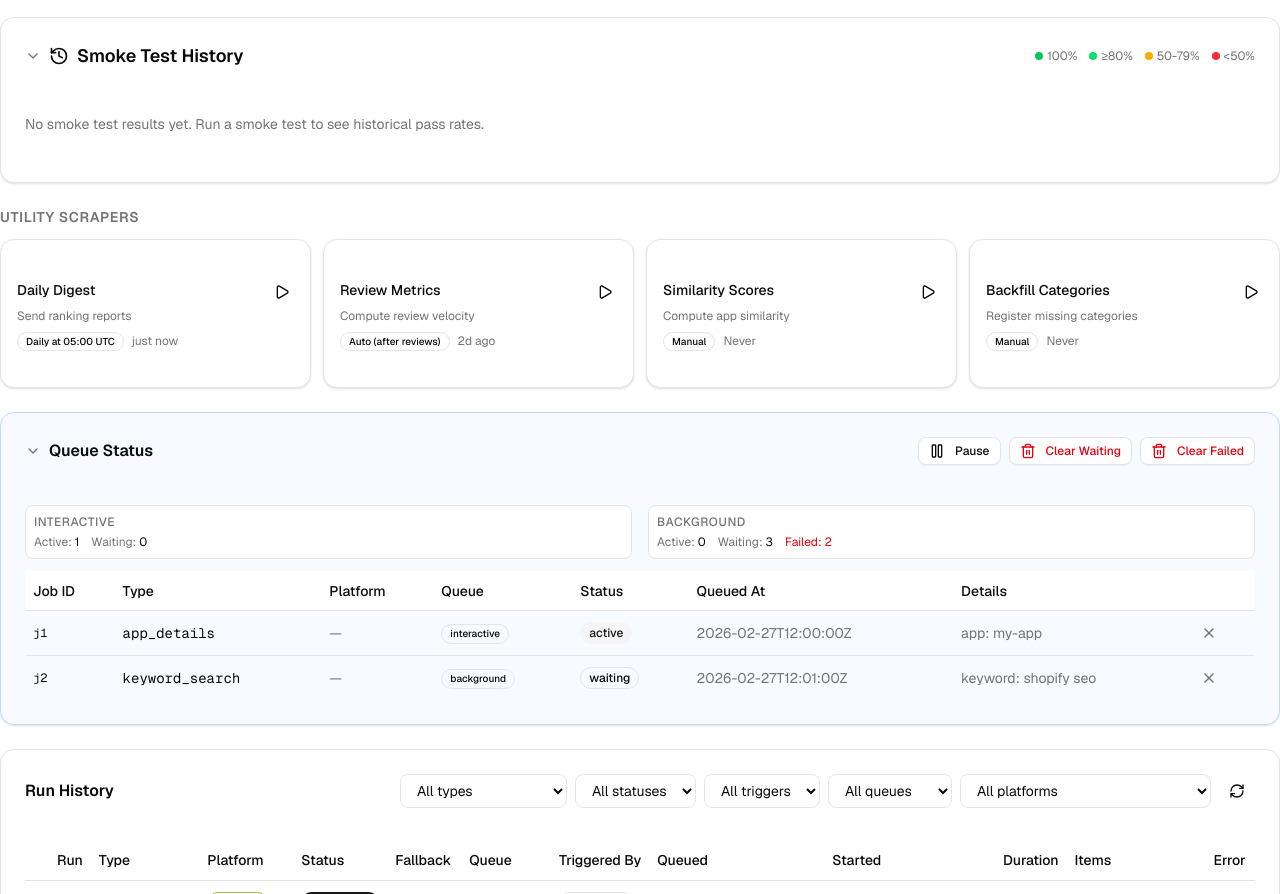
Test: ScraperPage › opens drain confirmation modal
(page scrolled)
Step 1. Click the button "Clear Waiting" → (1070, 451), box [1008, 437, 1132, 465]
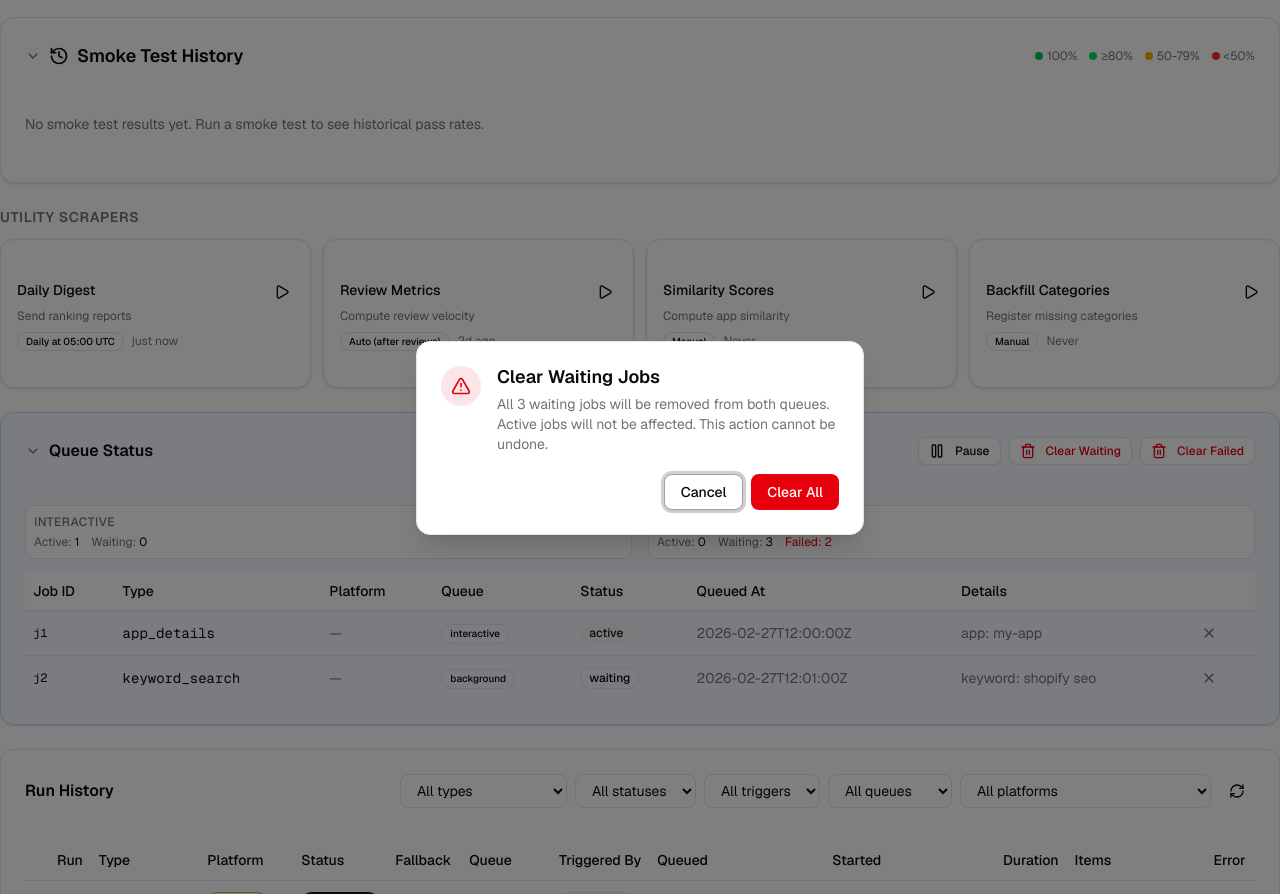
Expected: the heading "Clear Waiting Jobs" is shown, [497, 365, 660, 388]
